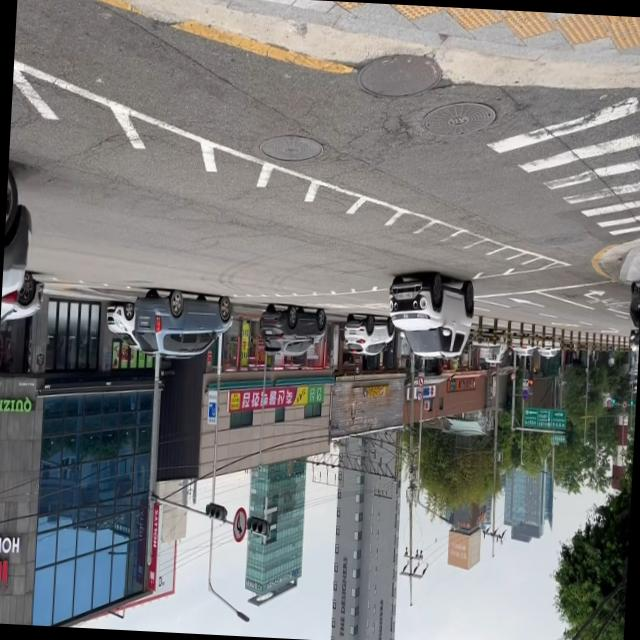building: (0, 291, 184, 632), (329, 424, 406, 640), (493, 398, 562, 568), (242, 454, 308, 608)
car: (123, 263, 234, 382), (386, 270, 476, 361), (257, 302, 328, 358), (342, 312, 394, 357)
